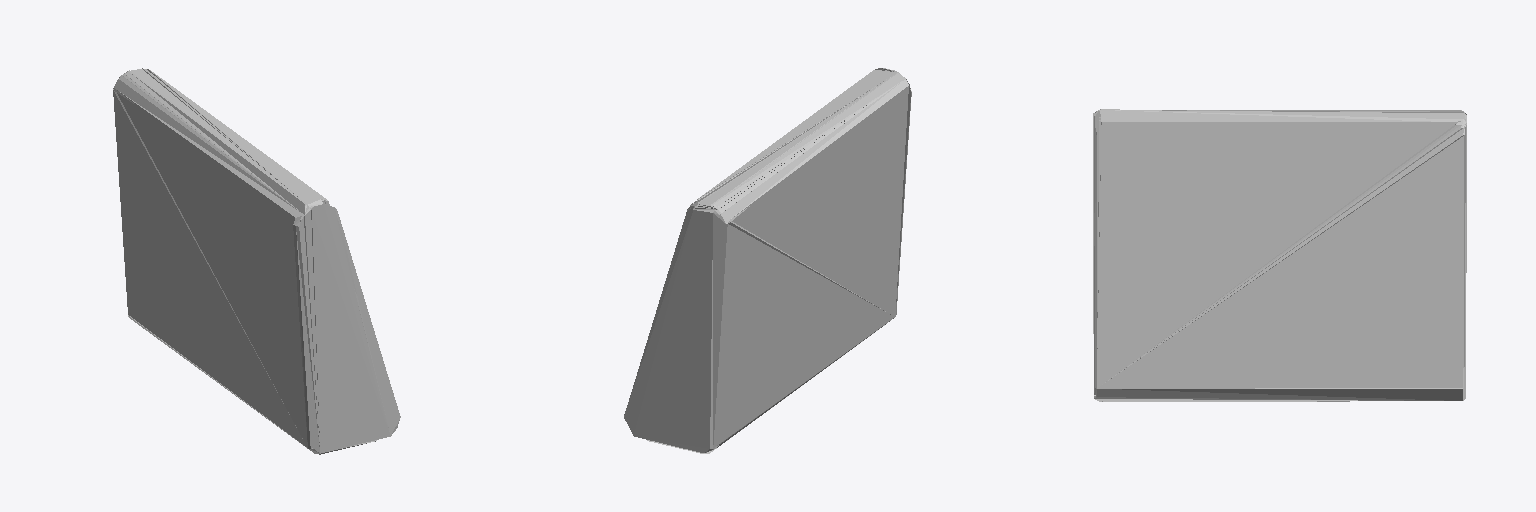
Rendered from mid_backseat.obj.
3 renders of one model, left to right at view 1: azimuth 30°, elevation 25°; view 2: azimuth 150°, elevation 25°; view 3: azimuth 270°, elevation 25°, orthographic.
Visible parts, largest first — view 1: mid_backseat_mesh11.004_mesh11-geometry; view 2: mid_backseat_mesh11.004_mesh11-geometry; view 3: mid_backseat_mesh11.004_mesh11-geometry.
Part boxes in pixels (x1,y1,x2,y2): mid_backseat_mesh11.004_mesh11-geometry: (113,68,400,454); mid_backseat_mesh11.004_mesh11-geometry: (624,68,911,453); mid_backseat_mesh11.004_mesh11-geometry: (1093,109,1466,401).
Size of the model in its own units: 0.0912 by 0.2105 by 0.2789.